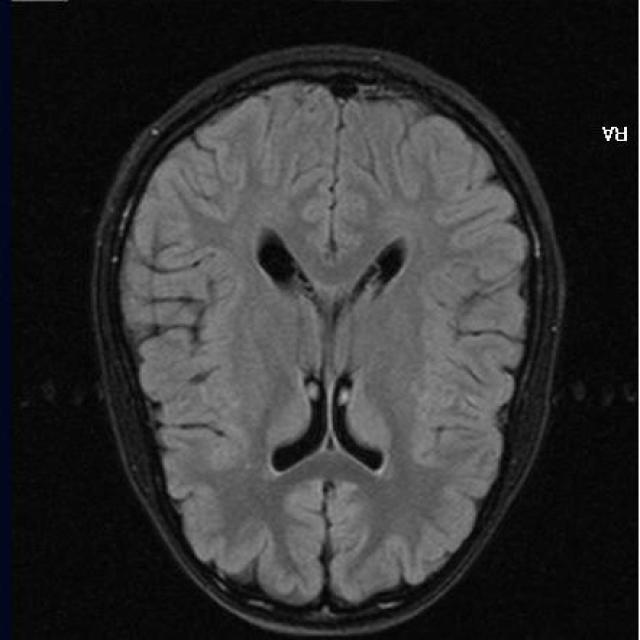no-tumor: (184, 137, 468, 543)
